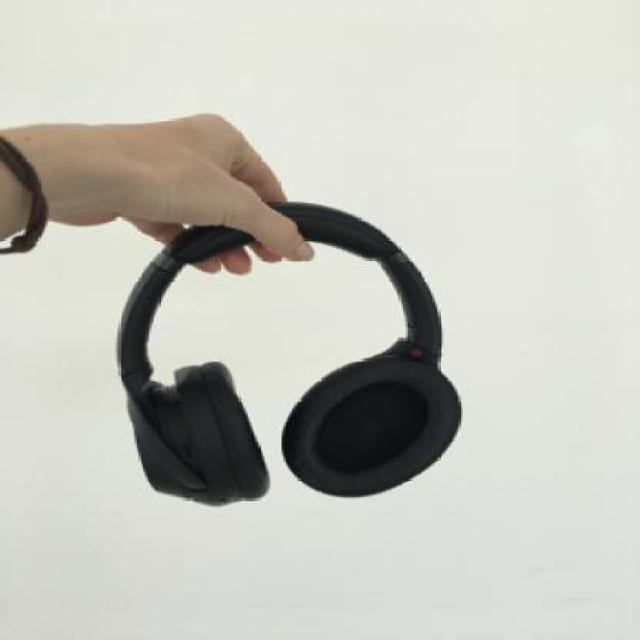earphone: (95, 110, 503, 538)
